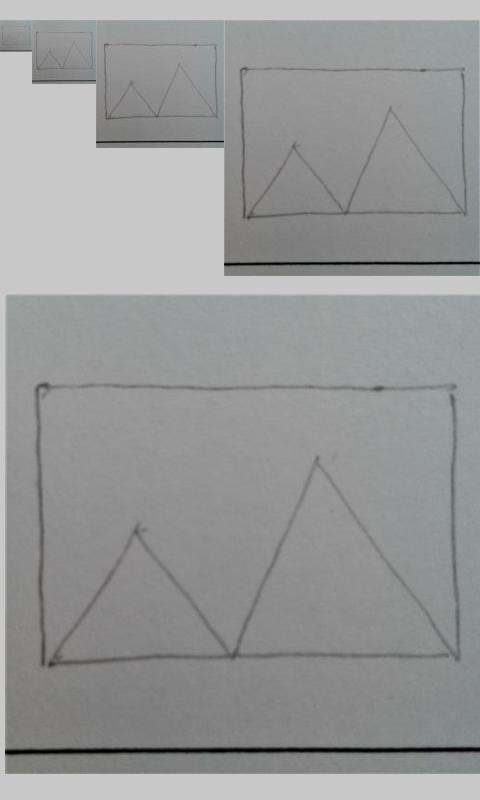image_view: (30, 378, 463, 669), (235, 62, 468, 223), (103, 42, 219, 121), (35, 31, 93, 70), (1, 24, 31, 47)
